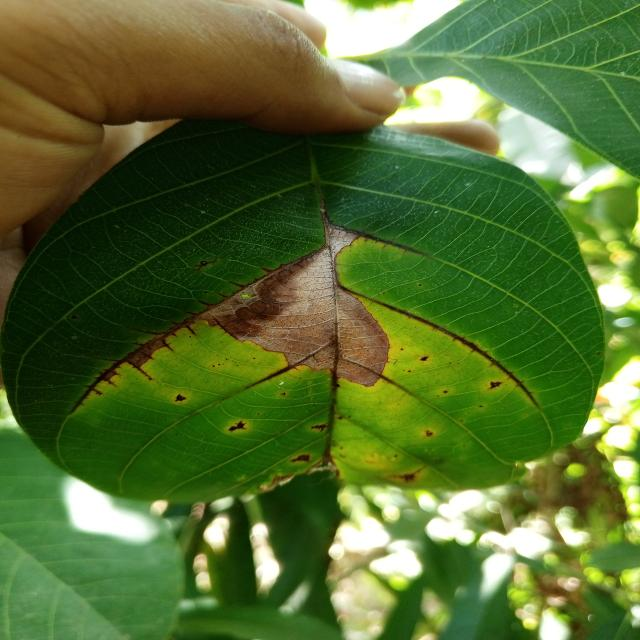Corynespora: (69, 246, 327, 415), (341, 286, 541, 408), (327, 216, 423, 258), (248, 365, 296, 387), (191, 256, 220, 271), (229, 421, 248, 431), (311, 423, 328, 432), (370, 370, 372, 371)
Leaf-Blight: (210, 231, 390, 387)
